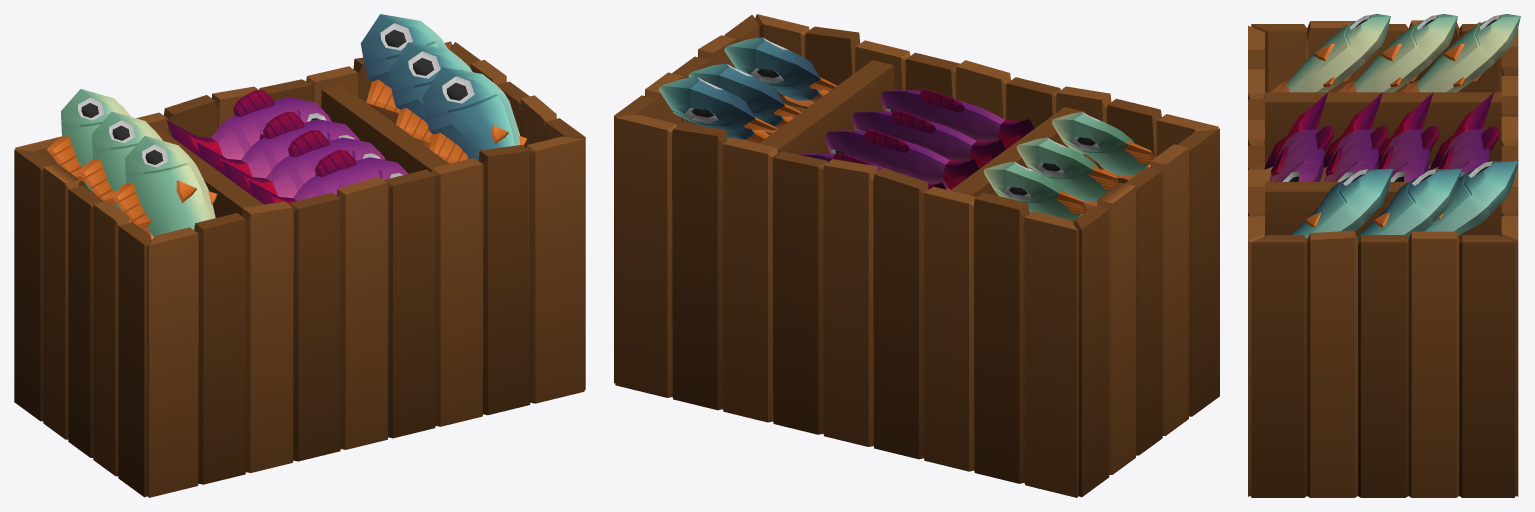
The model's file is Stall-0-2-M.fbx.
The picture shows the model from 3 angles, left to right: view 1: azimuth 30°, elevation 25°; view 2: azimuth 150°, elevation 25°; view 3: azimuth 270°, elevation 25°; orthographic projection. The views are drawn at different scales.
Visible parts, largest first — view 1: Stall-0-2-M; view 2: Stall-0-2-M; view 3: Stall-0-2-M.
Part boxes in pixels (x1,y1,x2,y2): Stall-0-2-M: [14, 14, 585, 497]; Stall-0-2-M: [614, 14, 1219, 497]; Stall-0-2-M: [1248, 14, 1520, 497].
Size of the model in its own units: 262 by 169 by 139.
